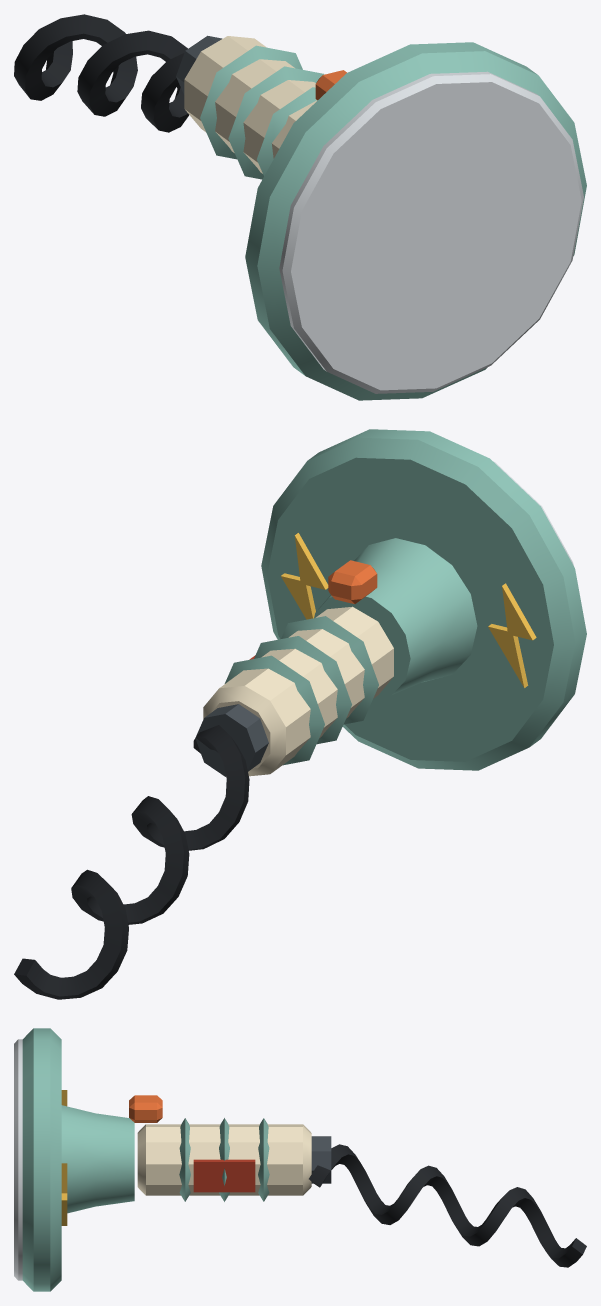
File: Weapon_DefibPaddles.fbx
The picture shows the model from 3 angles, top to bottom: view 1: azimuth 30°, elevation 25°; view 2: azimuth 150°, elevation 25°; view 3: azimuth 270°, elevation 25°; orthographic projection. The views are drawn at different scales.
Parts seen in each view (by area): view 1: Paddle; view 2: Paddle; view 3: Paddle.
Part boxes in pixels (x1,y1,x2,y2): Paddle: (14,14,586,400); Paddle: (14,429,586,999); Paddle: (14,1028,586,1291).
Bounding box in the file's own units: 0.94 × 0.94 × 2.04.
